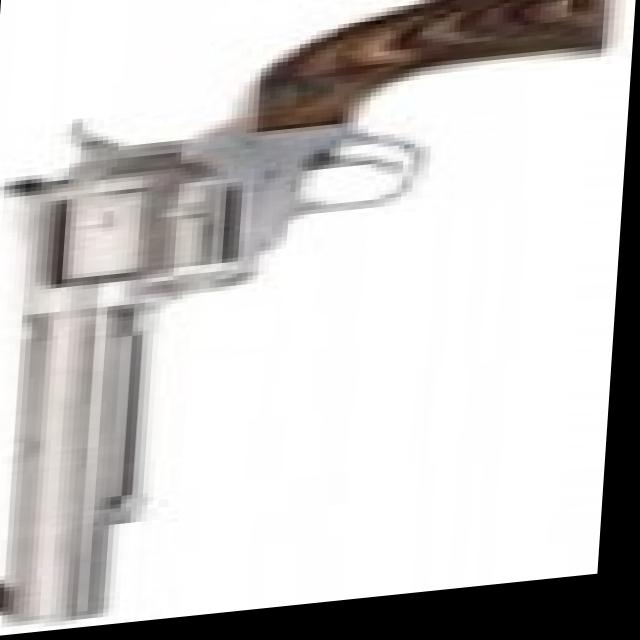handgun: (0, 0, 607, 640)
